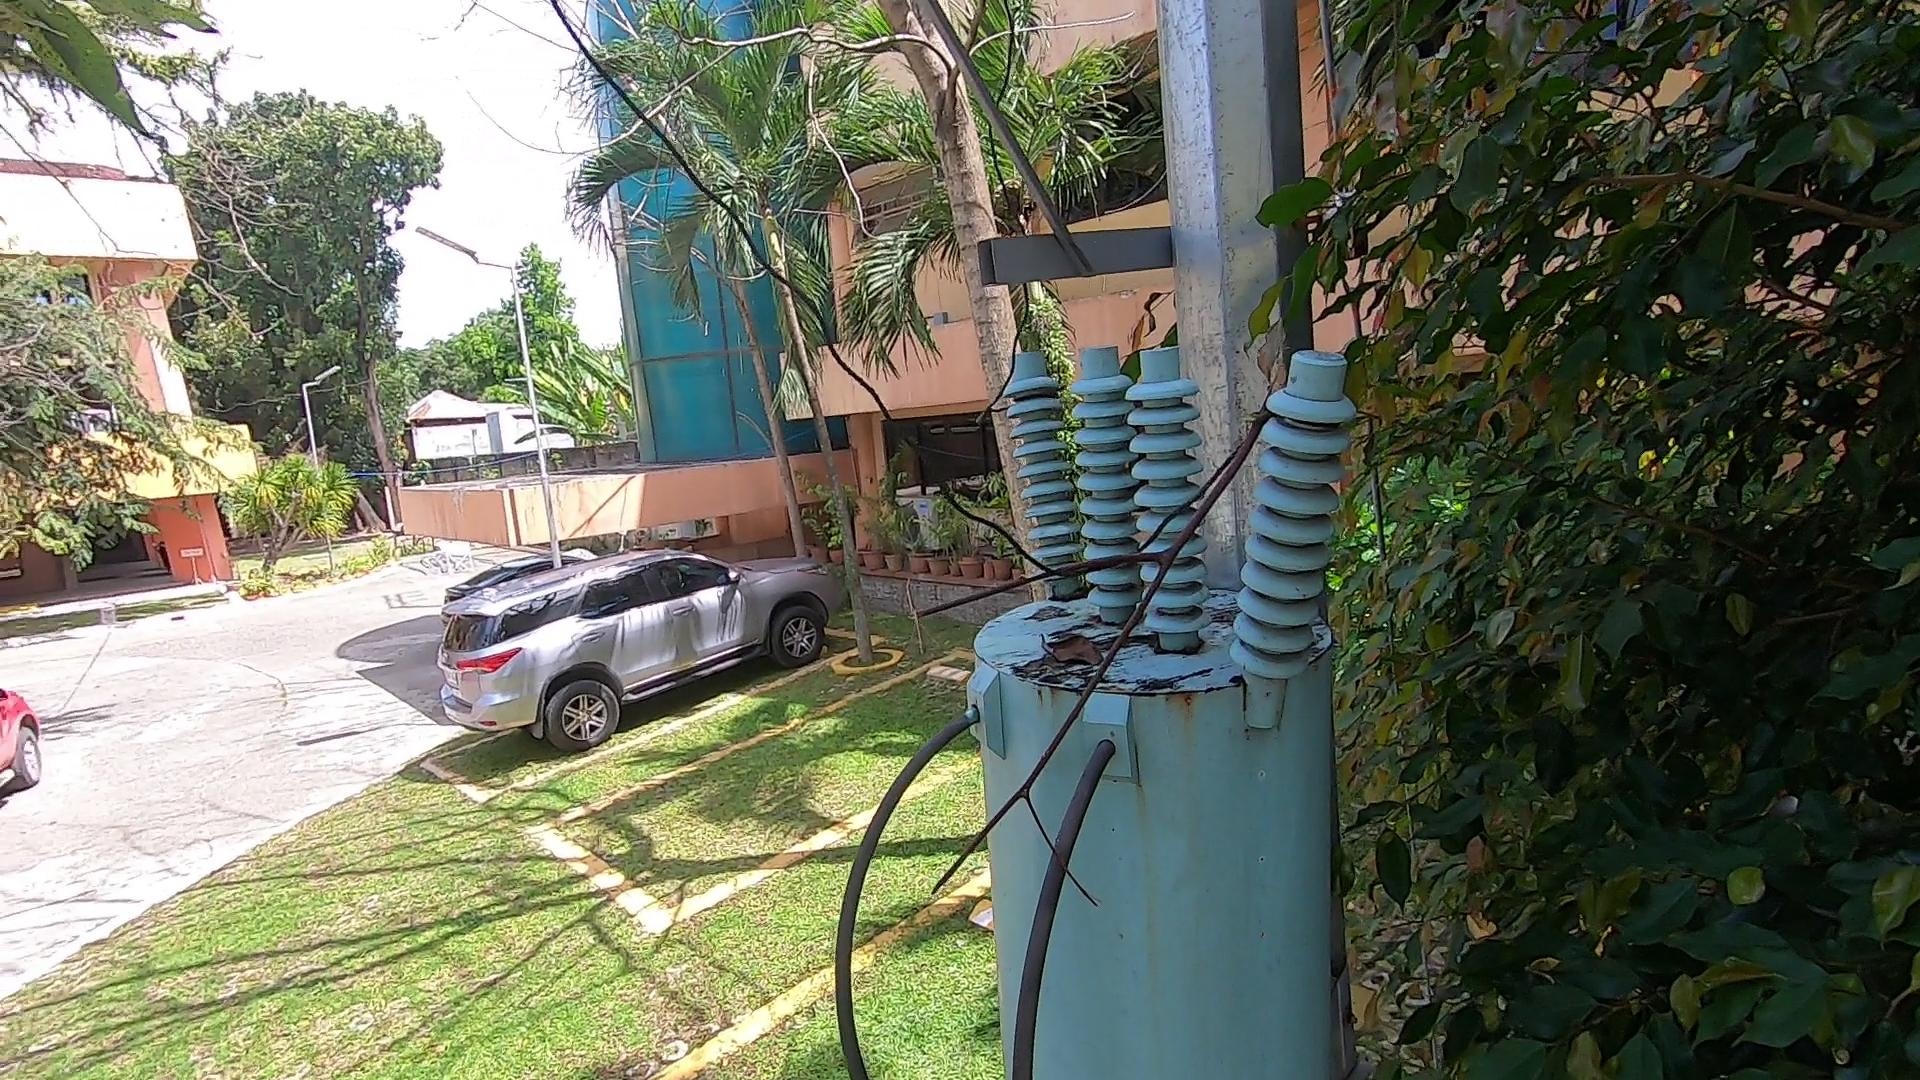leaf: (1054, 622, 1106, 684)
tree branch: (891, 389, 1302, 927)
